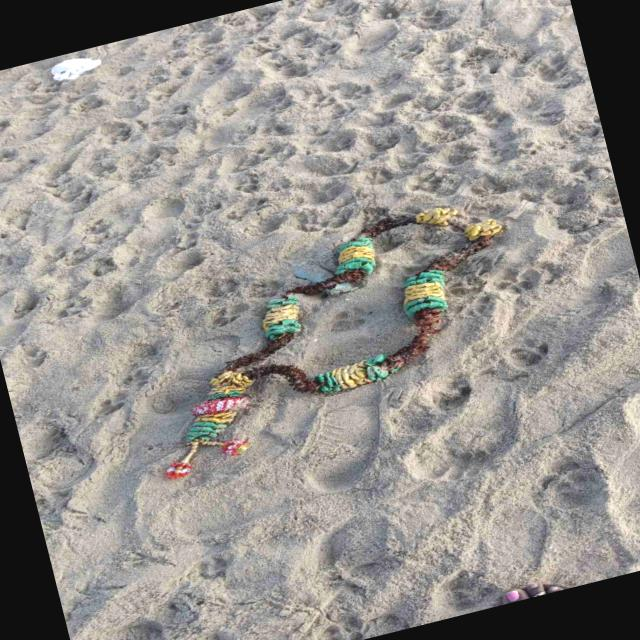giay_goi: (184, 421, 226, 442)
